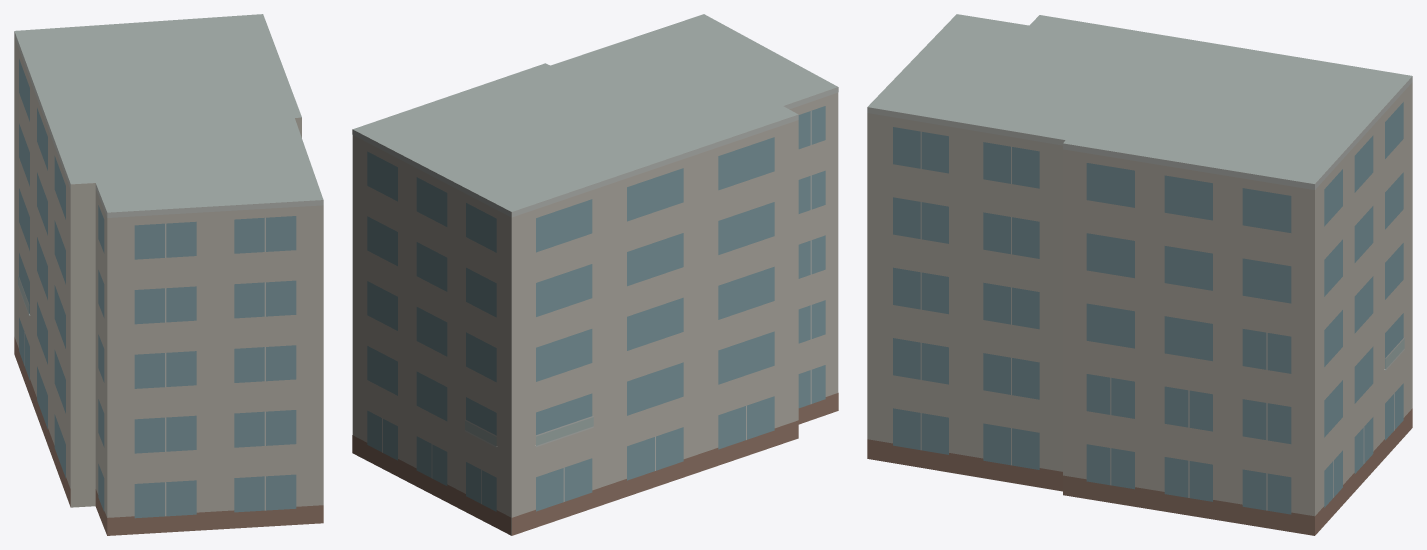
File: survey-upis-32956136.glb
3 views of the same model, side by side, from view 1: azimuth 30°, elevation 25°; view 2: azimuth 150°, elevation 25°; view 3: azimuth 270°, elevation 25° (orthographic). The views are drawn at different scales.
Parts seen in each view (by area): view 1: survey-upis-32956136.tmp; view 2: survey-upis-32956136.tmp; view 3: survey-upis-32956136.tmp.
Boxes of the visible parts, x1,y1,x2,y2 form: survey-upis-32956136.tmp: [14, 14, 323, 535]; survey-upis-32956136.tmp: [352, 14, 838, 535]; survey-upis-32956136.tmp: [867, 14, 1412, 535].
Size of the model in its own units: 15.05 by 14.5 by 20.38.
